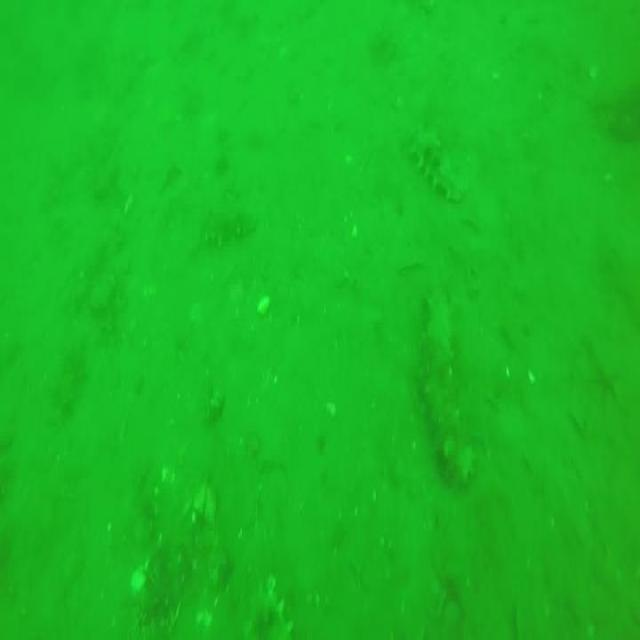holothurian: (420, 291, 478, 491), (410, 127, 468, 206), (236, 581, 293, 640), (192, 199, 259, 243), (131, 559, 149, 596), (256, 297, 272, 315)
